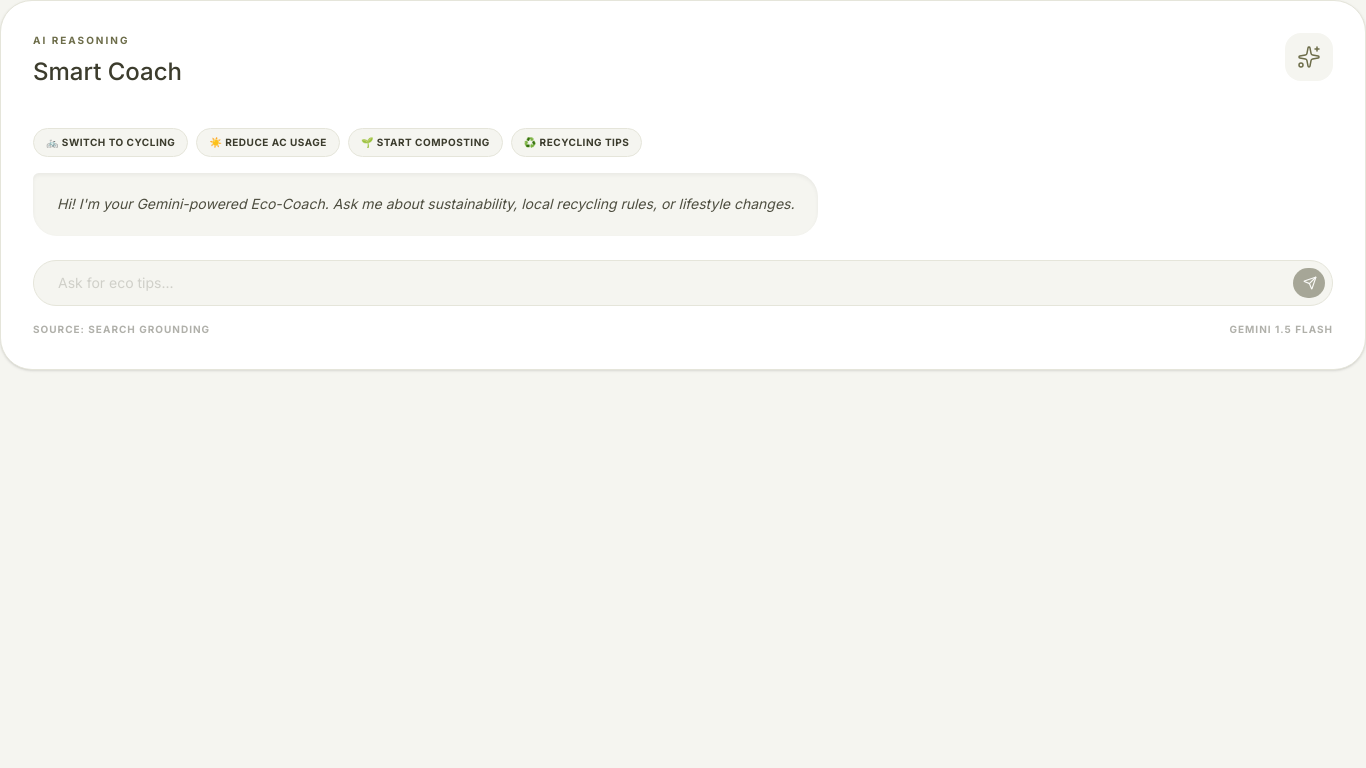
EcoCoach › sends message via quick action chip
Click the button with aria-label "Ask about: Switch to cycling" at [111, 142], box [33,128,188,157]
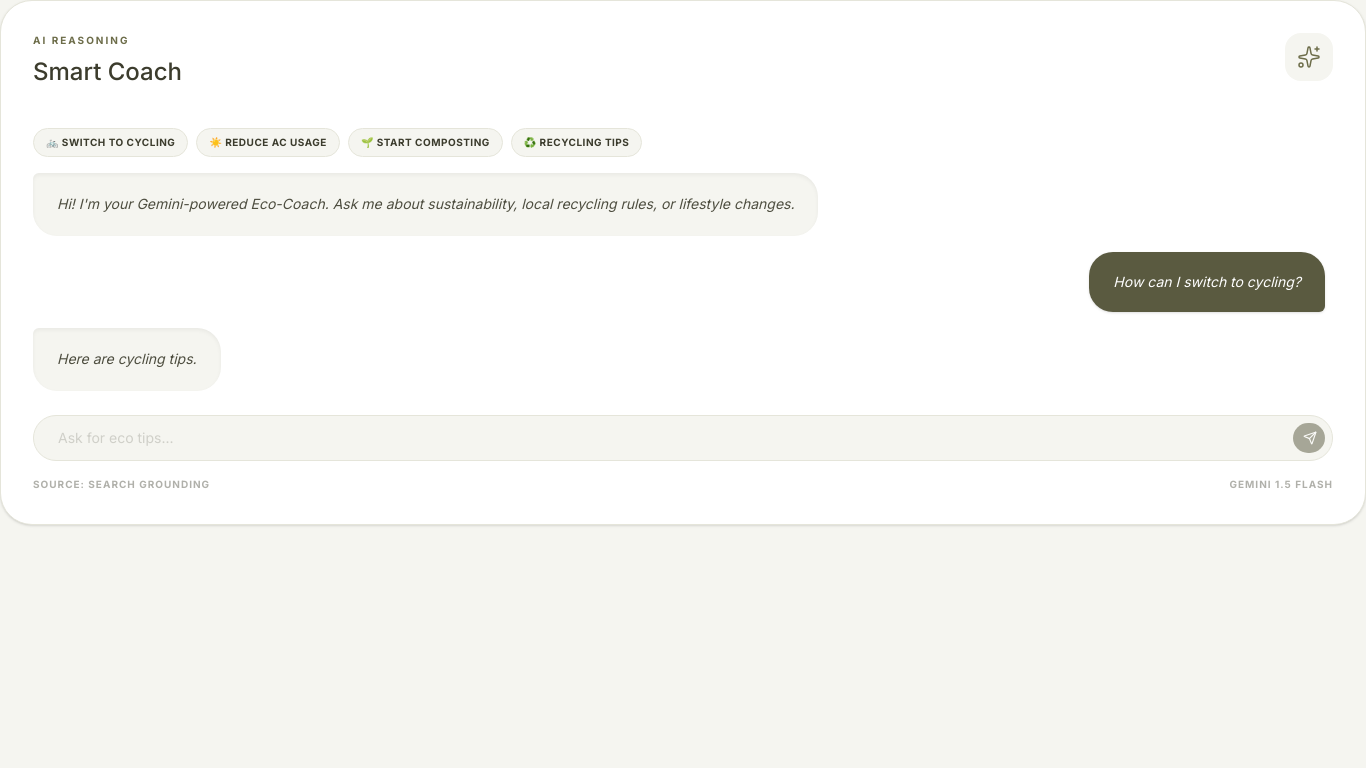
Now the text "How can I switch to cycling?" is shown, box [1089,252,1325,312]
